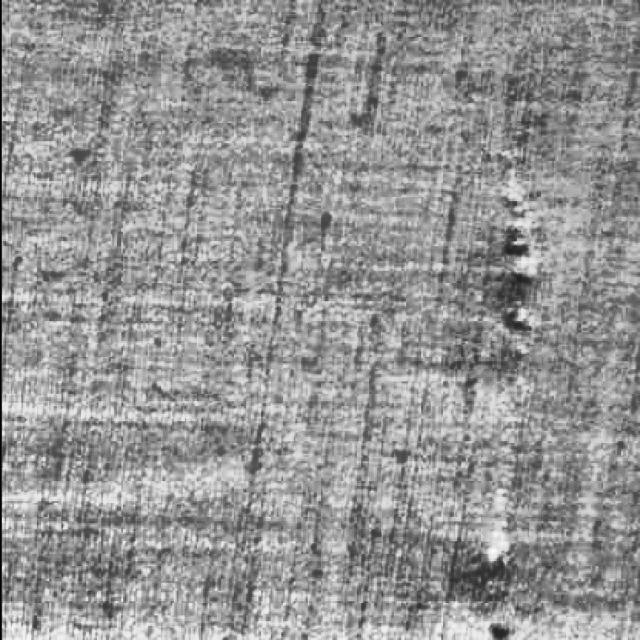thread_error: (454, 128, 556, 640)
